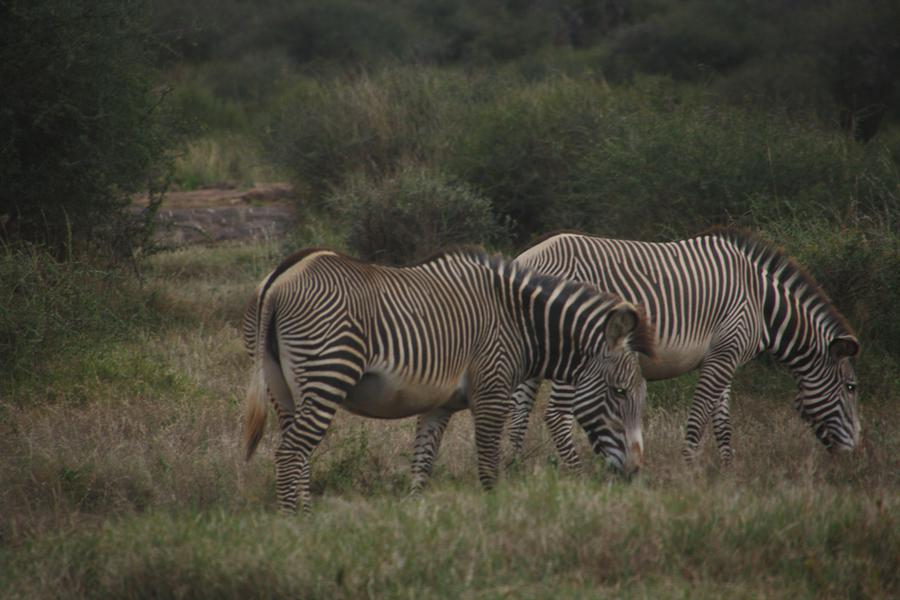zebra_grevys: (254, 234, 514, 404)
